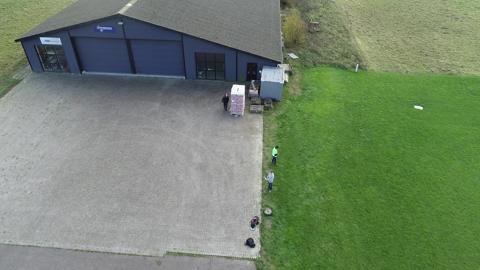RockwoolPallet: (230, 83, 247, 115)
